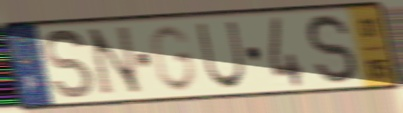4: (268, 13, 307, 90)
G: (147, 23, 198, 95)
N: (85, 24, 147, 100)
S: (304, 11, 360, 88), (43, 26, 96, 102)
U: (194, 19, 249, 92)
